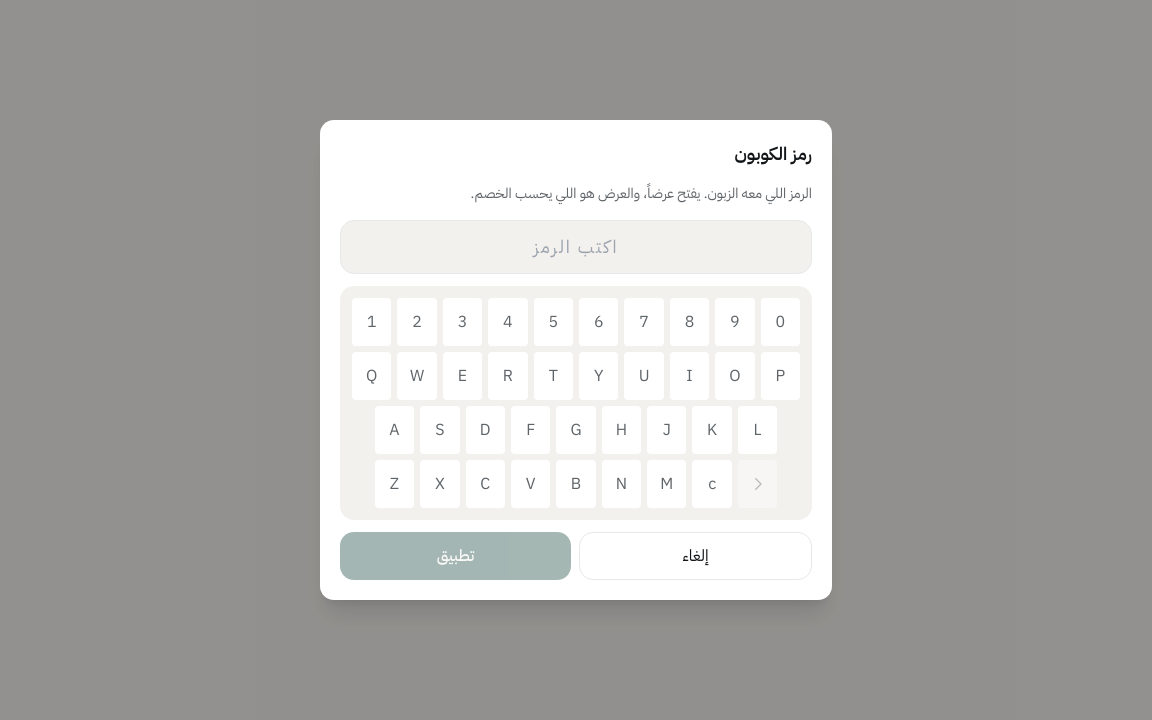
Scenario: entering a coupon › fills the field from the on-screen keys, for a till with no keyboard
The image size is (1152, 720).
Click the button "S": (440, 430) [420, 406, 460, 454]
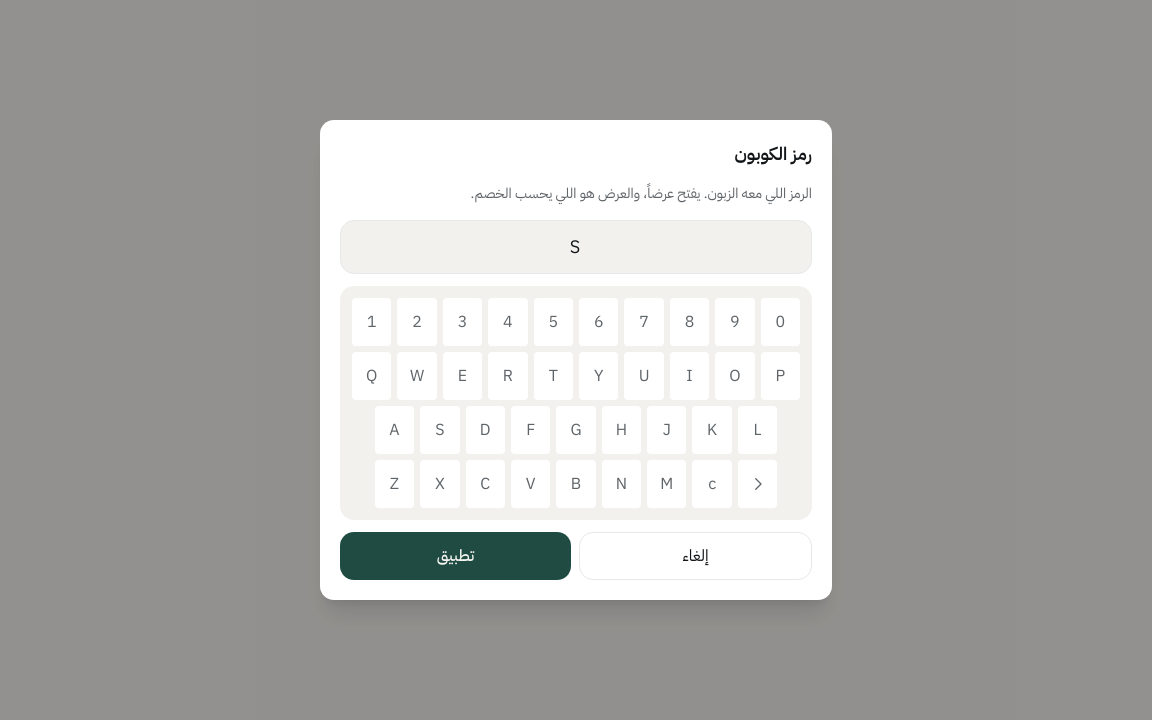
Click the button "A": (394, 430) [375, 406, 414, 454]
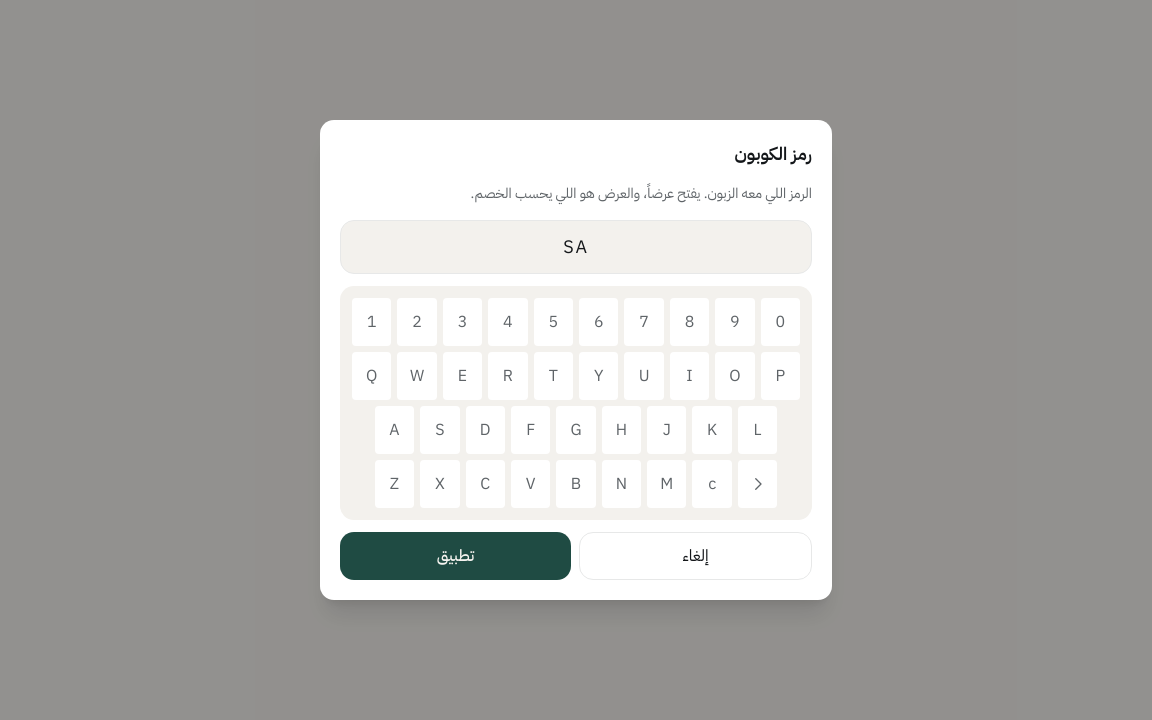
Click the button "V": (531, 484) [511, 460, 550, 508]
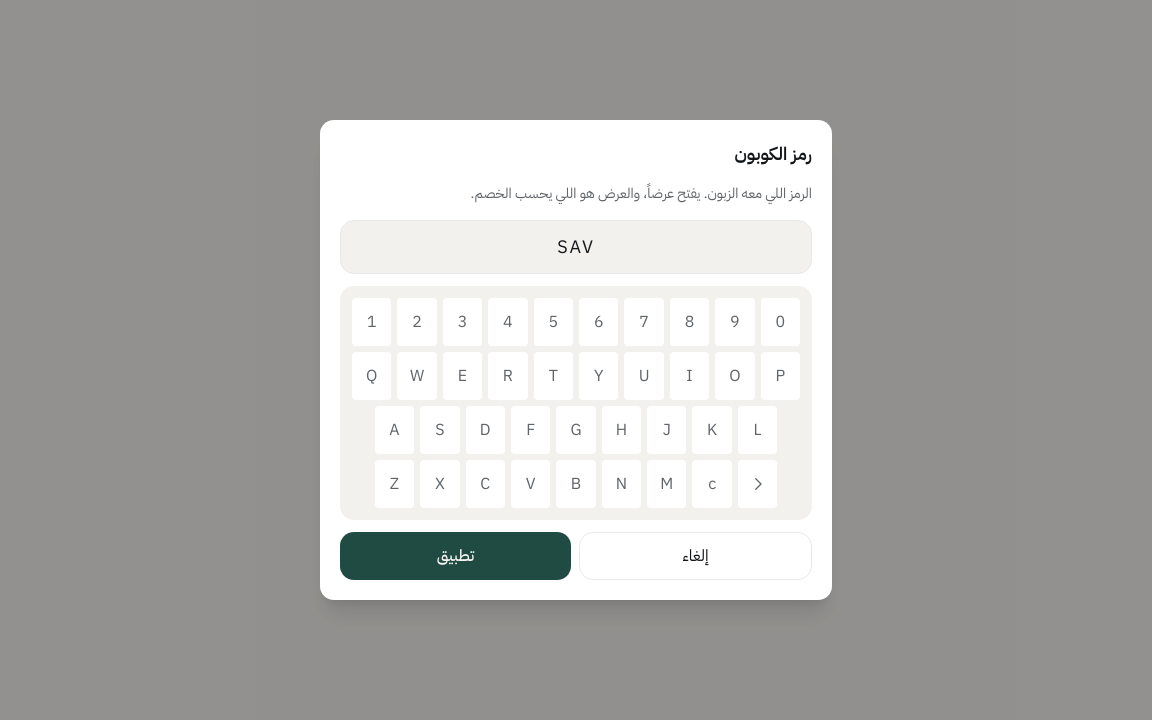
Result: the field holds "SAV" at [340, 220, 812, 274]
